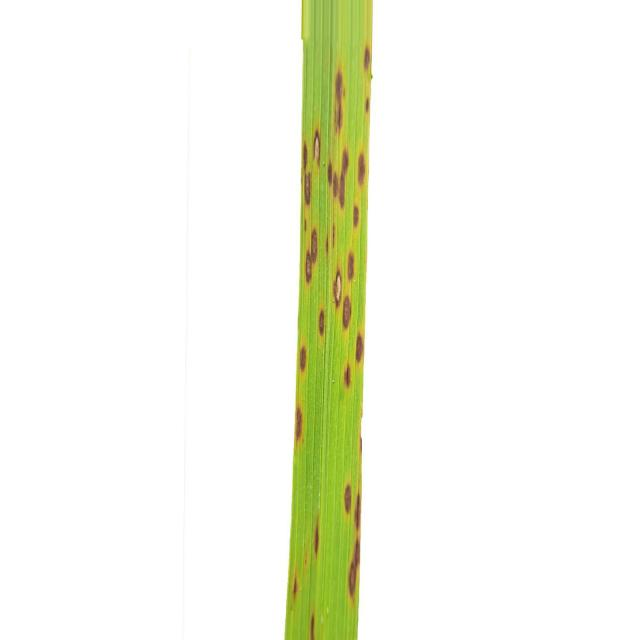Brown_Spot: (305, 229, 318, 282), (339, 150, 349, 208), (335, 70, 344, 133), (302, 144, 311, 204), (349, 546, 360, 595), (354, 492, 361, 531), (342, 298, 351, 328), (289, 570, 299, 596), (355, 335, 364, 362), (295, 406, 302, 439), (334, 271, 341, 302), (358, 154, 365, 184), (344, 484, 351, 513), (299, 346, 306, 371), (314, 518, 319, 552), (348, 252, 354, 280), (352, 206, 360, 227), (314, 130, 320, 158), (344, 365, 351, 388), (332, 174, 339, 197), (319, 310, 325, 335), (310, 614, 315, 639), (328, 162, 332, 184)
